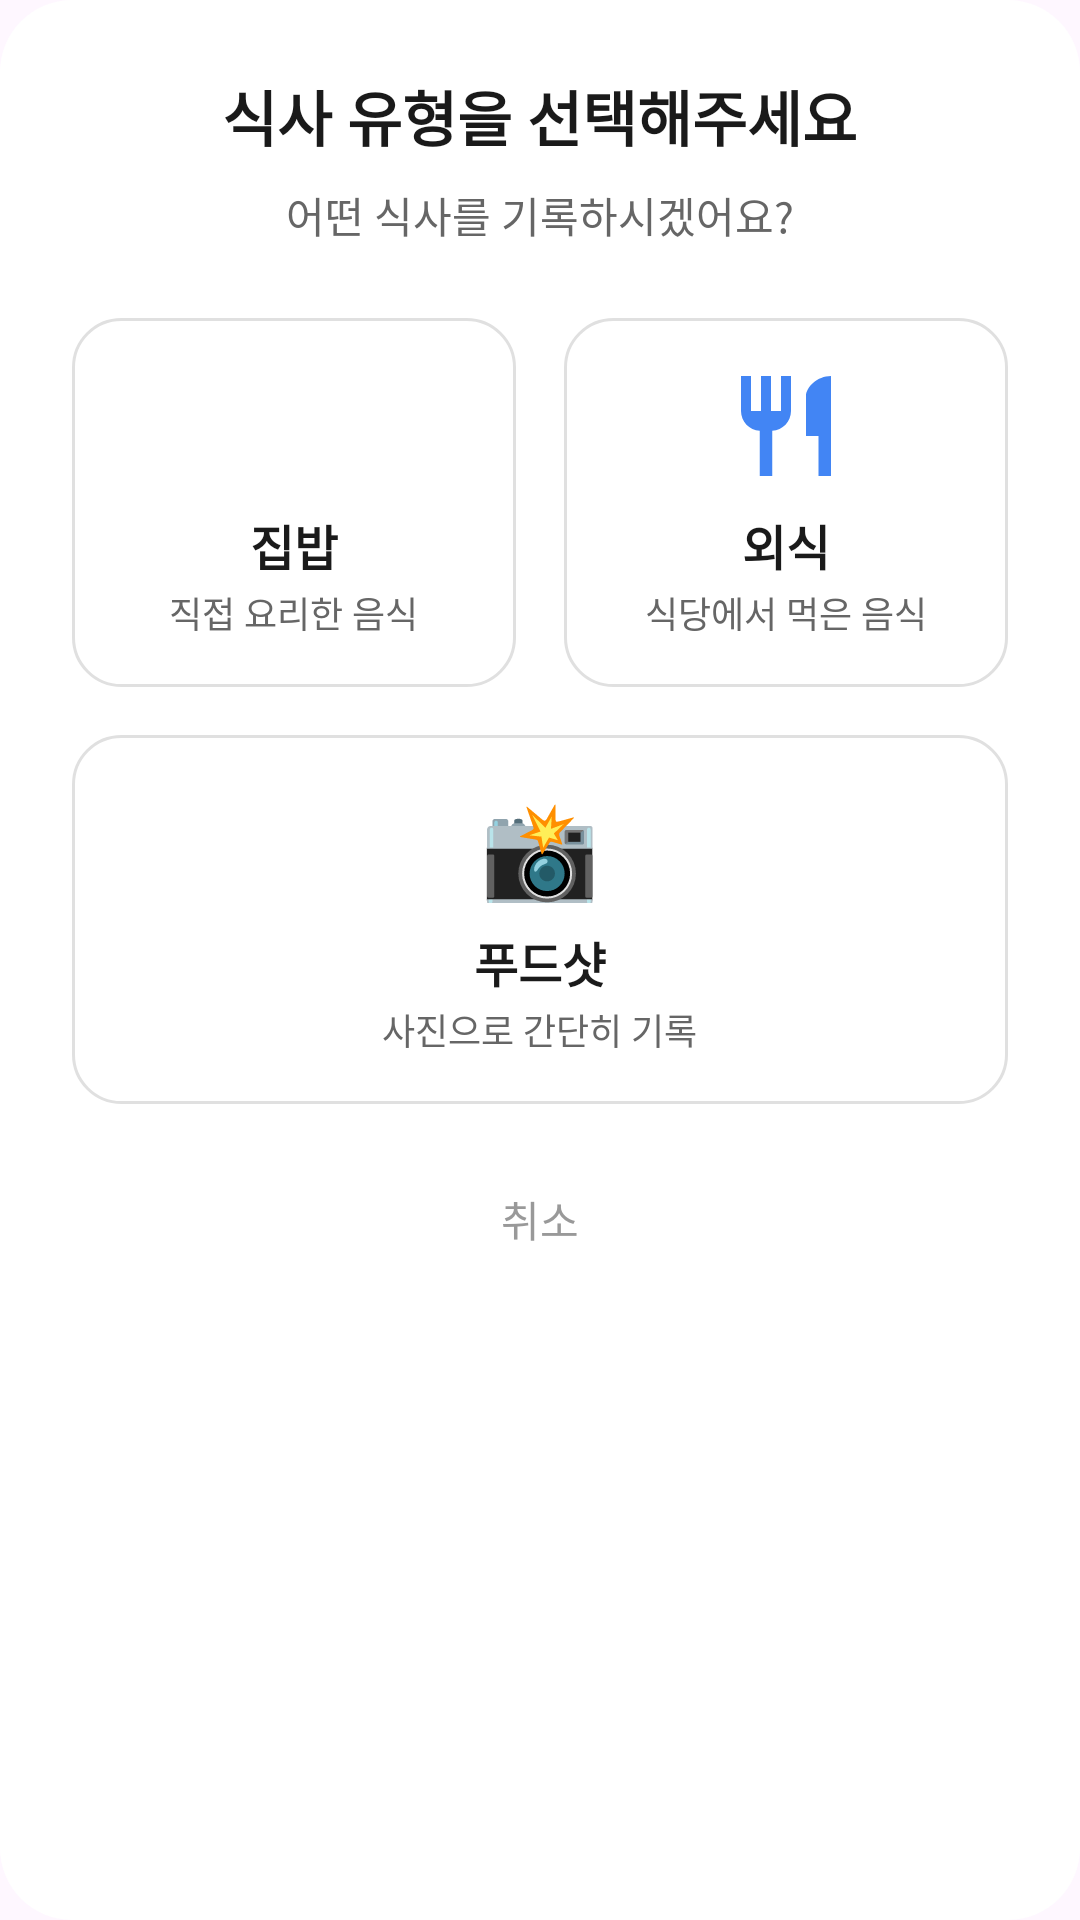

Icons on this 1080×1920 Android screen, each with the point to tap as (x,y):
restaurant: (786,426)
